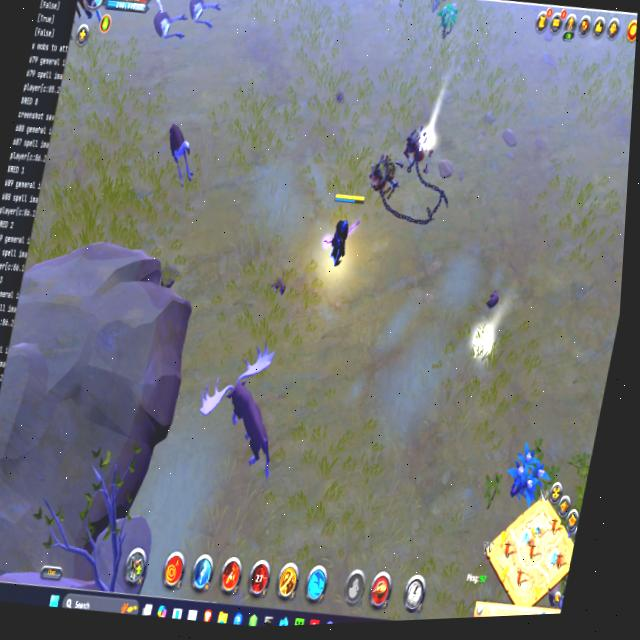hide: (499, 434, 556, 513), (432, 0, 464, 45)
mob: (145, 0, 194, 47), (176, 0, 232, 40)
ore: (184, 328, 303, 490), (154, 114, 209, 194)
red: (316, 187, 368, 277)
